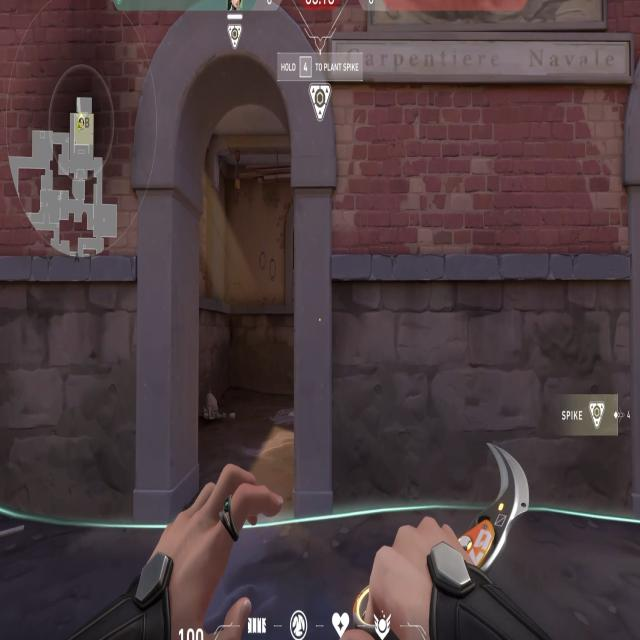B_Boathouse: (114, 0, 365, 536)
